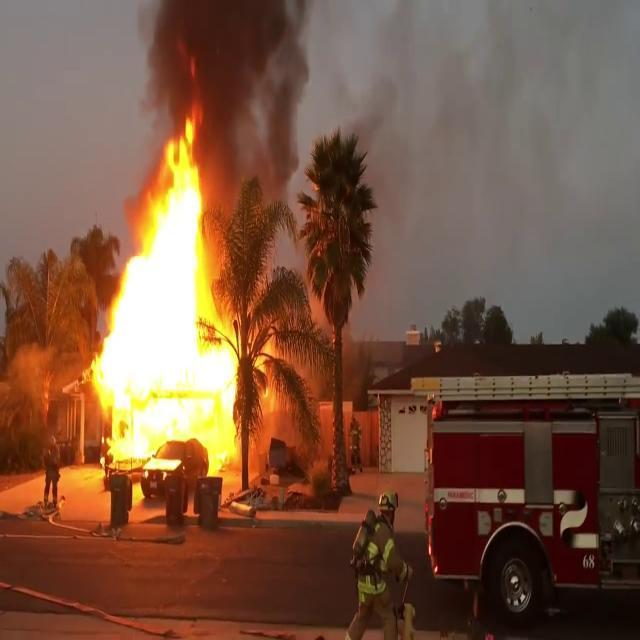Fire: (91, 116, 242, 477)
Smoke: (123, 0, 311, 398)
